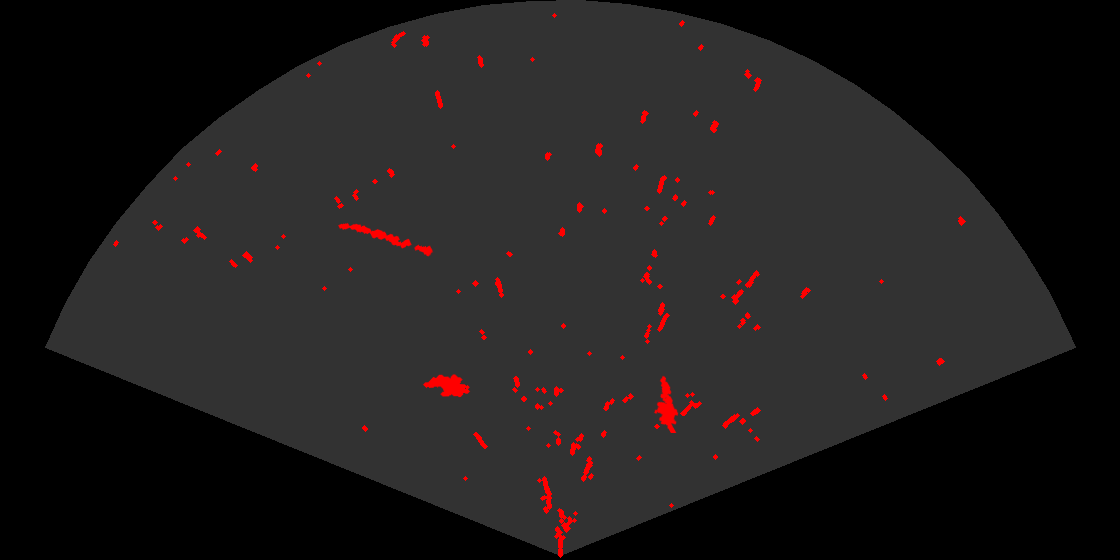AUV: (421, 373, 472, 399)
chain: (337, 221, 435, 258)
frogman: (652, 374, 680, 433)
